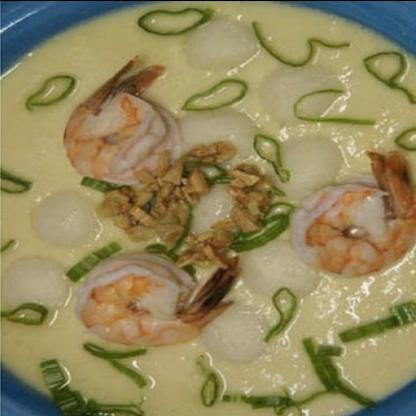Kaithoon: (6, 2, 415, 416)
